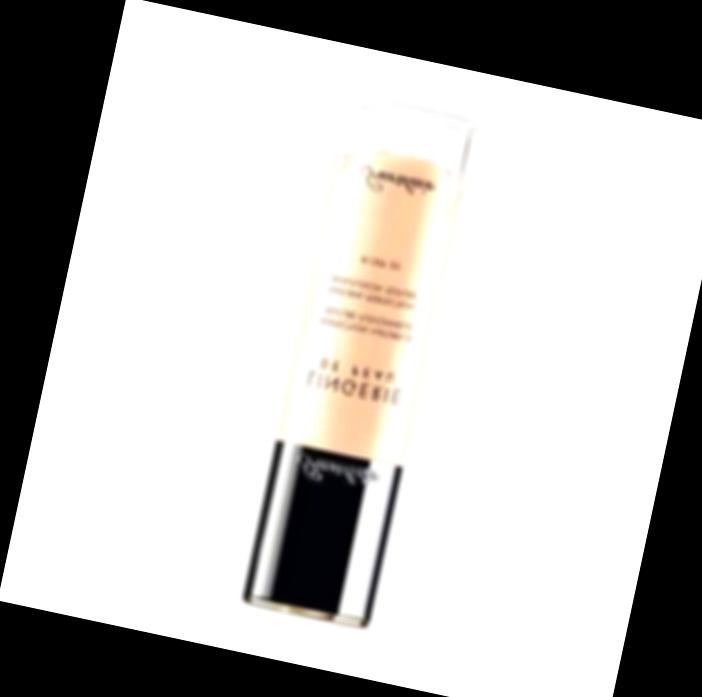cosmetic: (241, 96, 480, 632)
